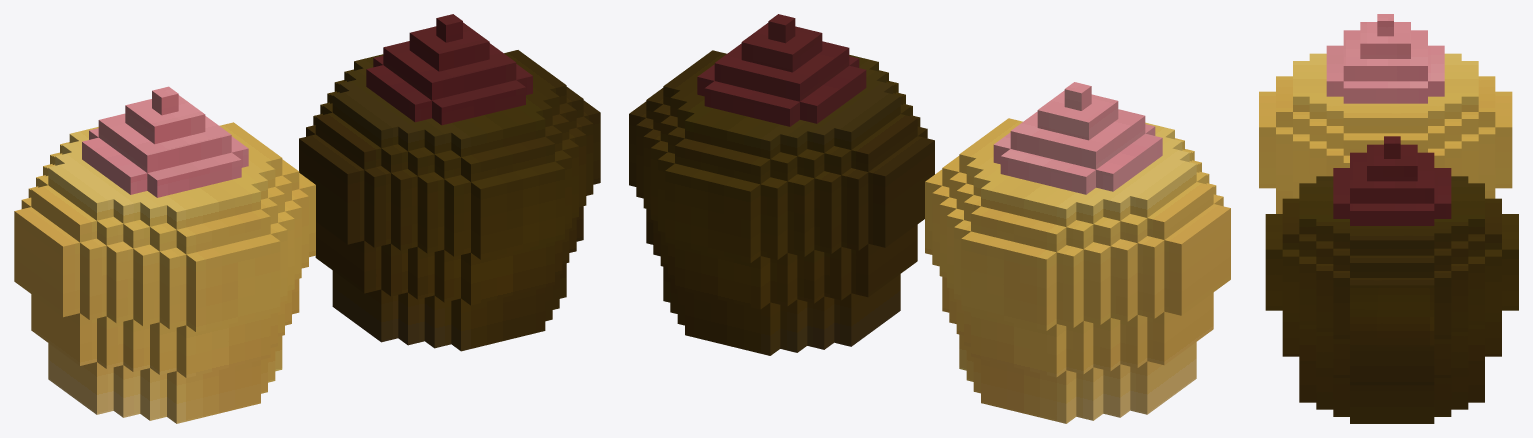
File: Cupcakes.fbx
The picture shows the model from 3 angles, left to right: view 1: azimuth 30°, elevation 25°; view 2: azimuth 150°, elevation 25°; view 3: azimuth 270°, elevation 25°; orthographic projection. The views are drawn at different scales.
Visible parts, largest first — view 1: Cupcake_Yellow, Cupcake_Brown; view 2: Cupcake_Yellow, Cupcake_Brown; view 3: Cupcake_Brown, Cupcake_Yellow.
Boxes of the visible parts, <box> form: Cupcake_Yellow: <box>14,86,315,423</box>; Cupcake_Brown: <box>299,14,600,351</box>; Cupcake_Yellow: <box>925,82,1230,423</box>; Cupcake_Brown: <box>629,14,934,355</box>; Cupcake_Brown: <box>1265,136,1518,423</box>; Cupcake_Yellow: <box>1259,14,1512,213</box>.
Bounding box in the file's own units: 3.21 × 1.6 × 1.54.
2 materials, 2 textured.
